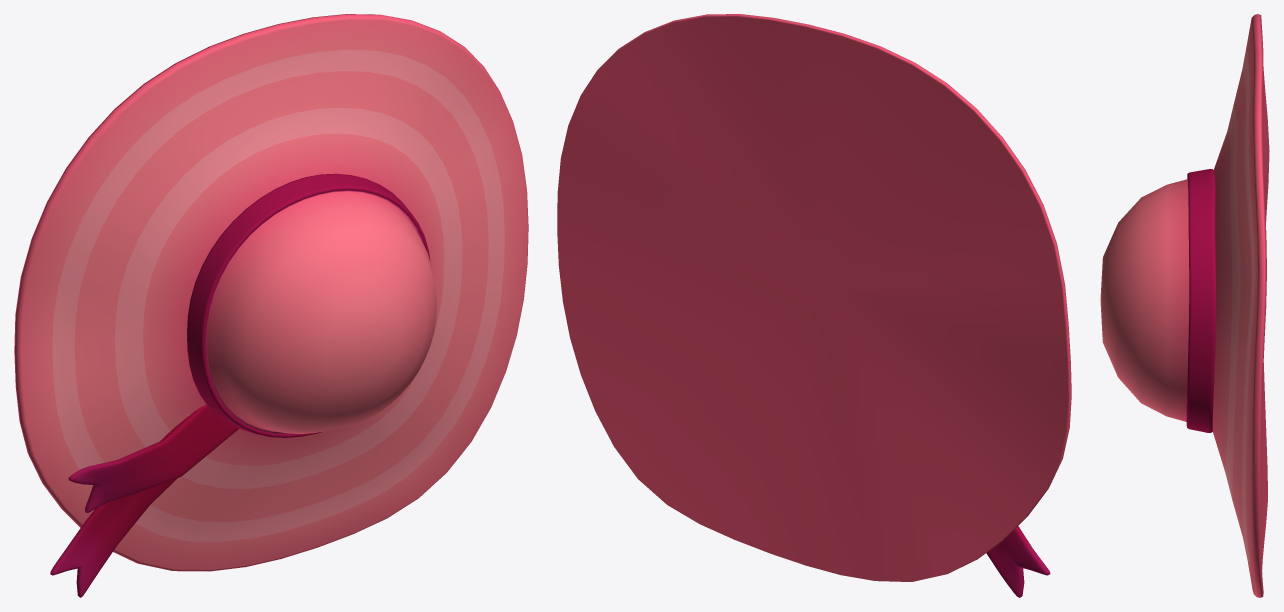
Rendered from beach_hat.fbx.
3 renders of one model, left to right at view 1: azimuth 30°, elevation 25°; view 2: azimuth 150°, elevation 25°; view 3: azimuth 270°, elevation 25°, orthographic. The views are drawn at different scales.
Visible parts, largest first — view 1: beach_hat; view 2: beach_hat; view 3: beach_hat.
Boxes of the visible parts, left/top/right/bottom form: beach_hat: left=14, top=14, right=528, bottom=597; beach_hat: left=557, top=14, right=1071, bottom=597; beach_hat: left=1100, top=14, right=1269, bottom=597.
Bounding box in the file's own units: 1.59 × 1.59 × 0.4803.
